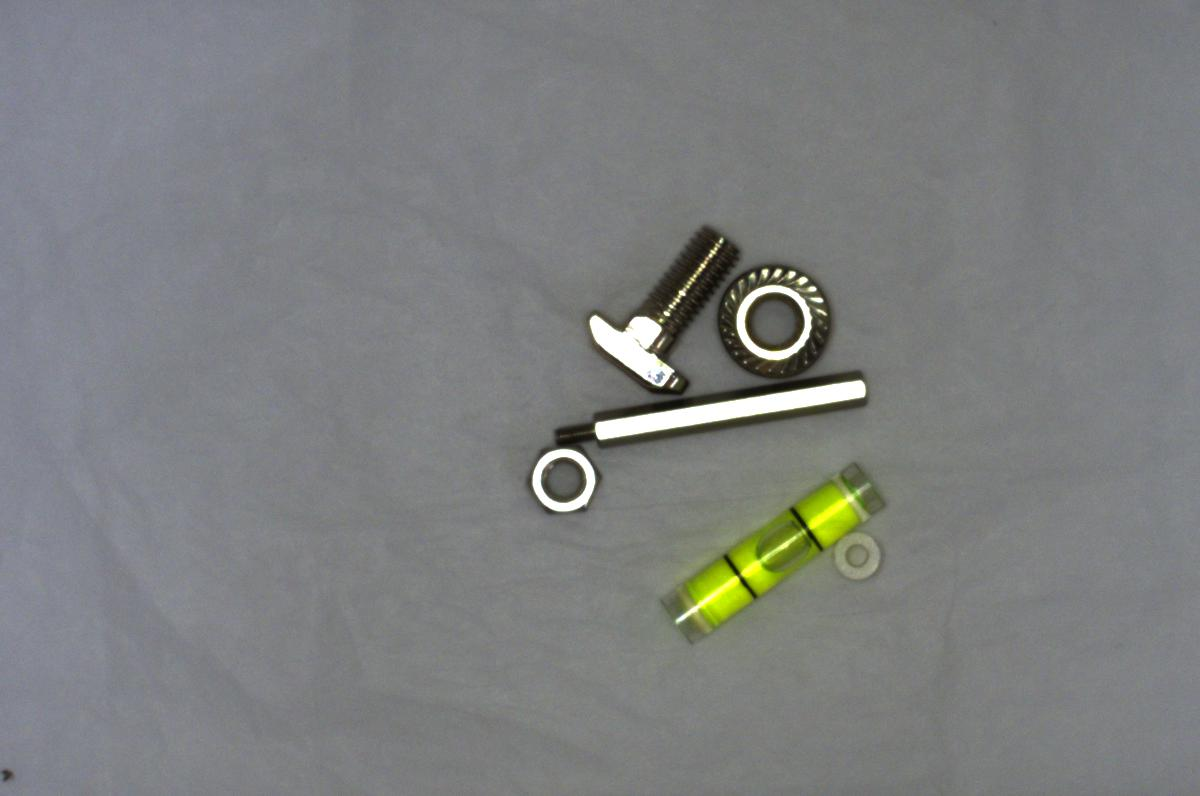Flange nut: (706, 259, 834, 377)
Hexagon nut: (517, 442, 602, 519)
Hexagonal steel column: (553, 368, 861, 445)
Horizontal bubble: (628, 463, 885, 645)
Plastic cushion pillar: (826, 530, 892, 587)
T-shaped screw: (570, 219, 737, 408)
